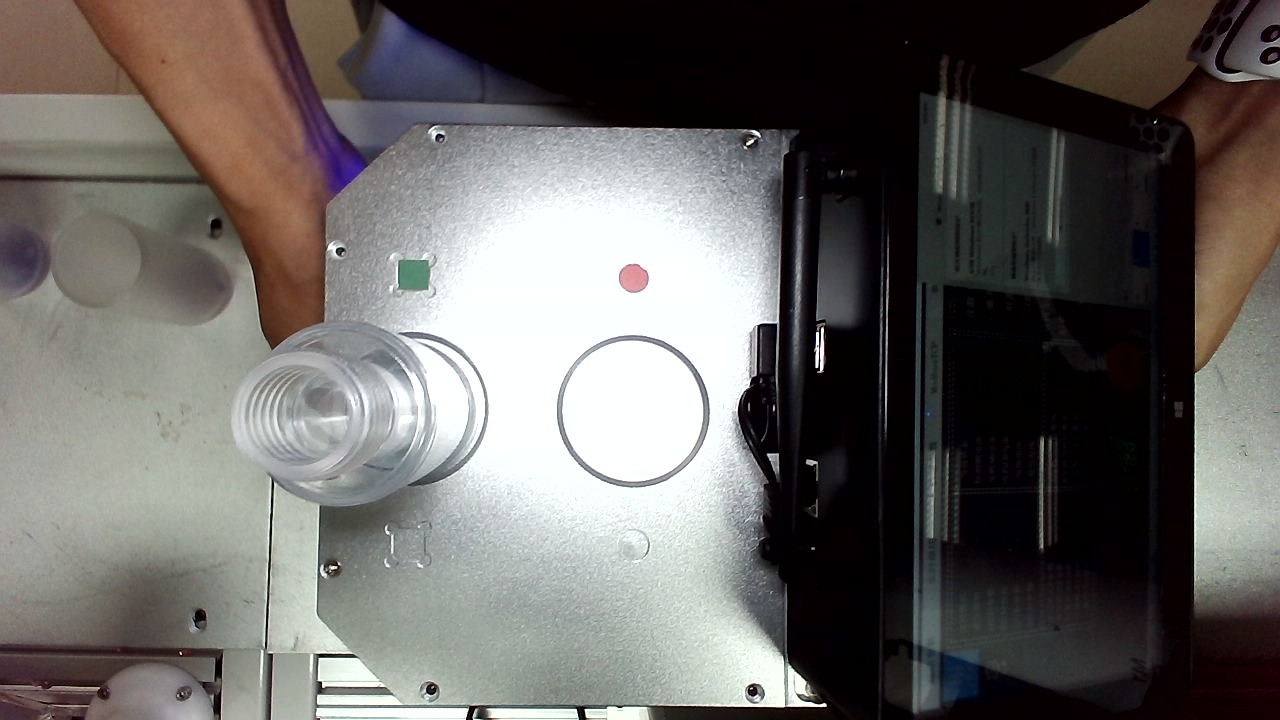bad: (254, 611, 307, 655), (285, 108, 336, 152), (823, 462, 874, 504), (836, 513, 882, 554), (259, 169, 306, 209), (600, 244, 640, 290), (695, 585, 736, 629), (817, 99, 857, 142), (618, 24, 659, 63), (529, 94, 570, 132), (365, 10, 404, 49), (836, 49, 874, 89), (798, 370, 839, 407), (269, 205, 313, 238), (501, 452, 538, 491), (804, 61, 840, 101), (258, 288, 295, 326), (780, 1, 816, 39), (771, 50, 807, 88), (715, 379, 751, 414), (260, 334, 295, 367), (529, 419, 564, 452), (777, 81, 810, 115)
pass: (551, 391, 596, 443), (576, 140, 615, 190), (261, 526, 304, 569), (818, 545, 863, 585), (668, 273, 708, 318), (263, 408, 306, 449), (287, 568, 330, 609), (515, 391, 554, 435), (435, 393, 476, 434), (579, 367, 614, 412), (799, 498, 838, 537), (566, 609, 604, 649), (649, 50, 685, 89), (809, 422, 848, 458), (687, 39, 722, 78), (788, 451, 822, 489)
toolong: (679, 324, 744, 377), (344, 39, 381, 100), (837, 228, 873, 290)
unpass: (830, 4, 874, 53), (582, 546, 626, 589), (796, 201, 841, 243), (451, 232, 491, 278), (794, 249, 838, 290), (498, 249, 540, 291), (734, 288, 774, 329), (845, 319, 882, 363), (277, 364, 319, 401), (827, 169, 867, 207), (408, 50, 445, 90), (537, 236, 576, 273), (669, 213, 707, 250), (849, 431, 885, 470), (696, 10, 733, 47), (757, 266, 792, 305), (826, 352, 863, 387), (846, 388, 883, 422), (654, 11, 683, 53)
